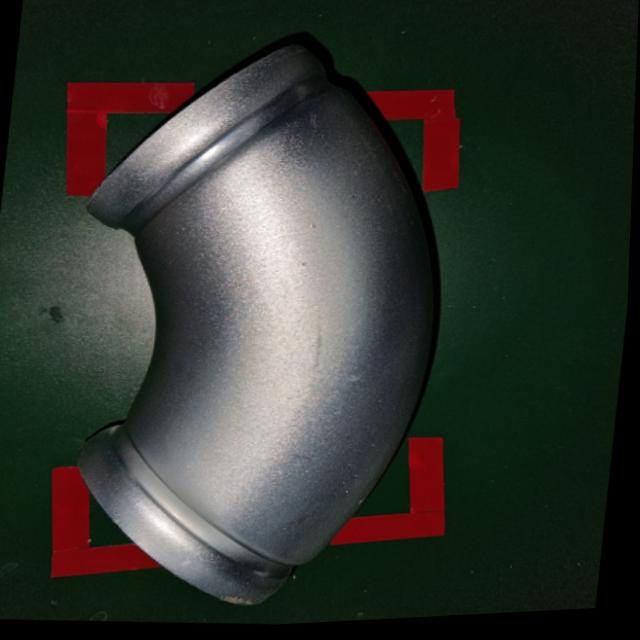Normal: (40, 14, 481, 635)
